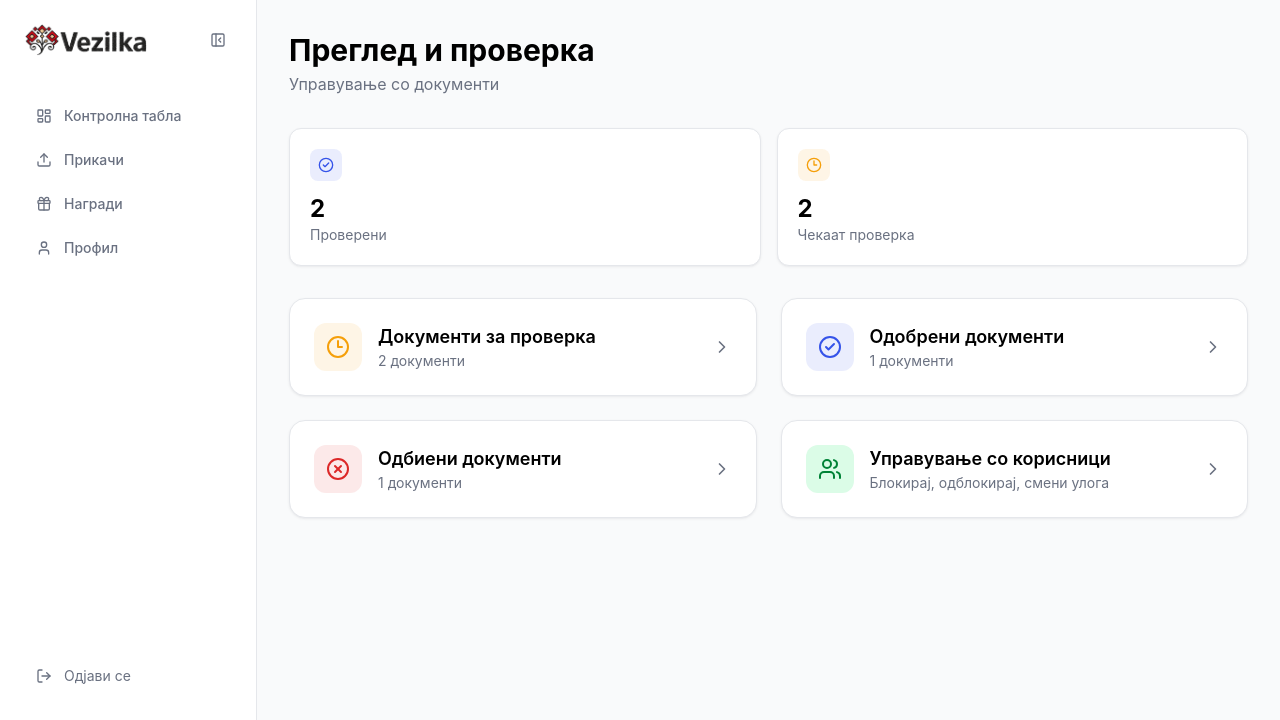
Test: AdminPage › User management › opens the user management section
Click the button "Управување со корисници Блокирај, одблокирај, смени улога" at (1014, 469), box 780,420 -> 1248,518
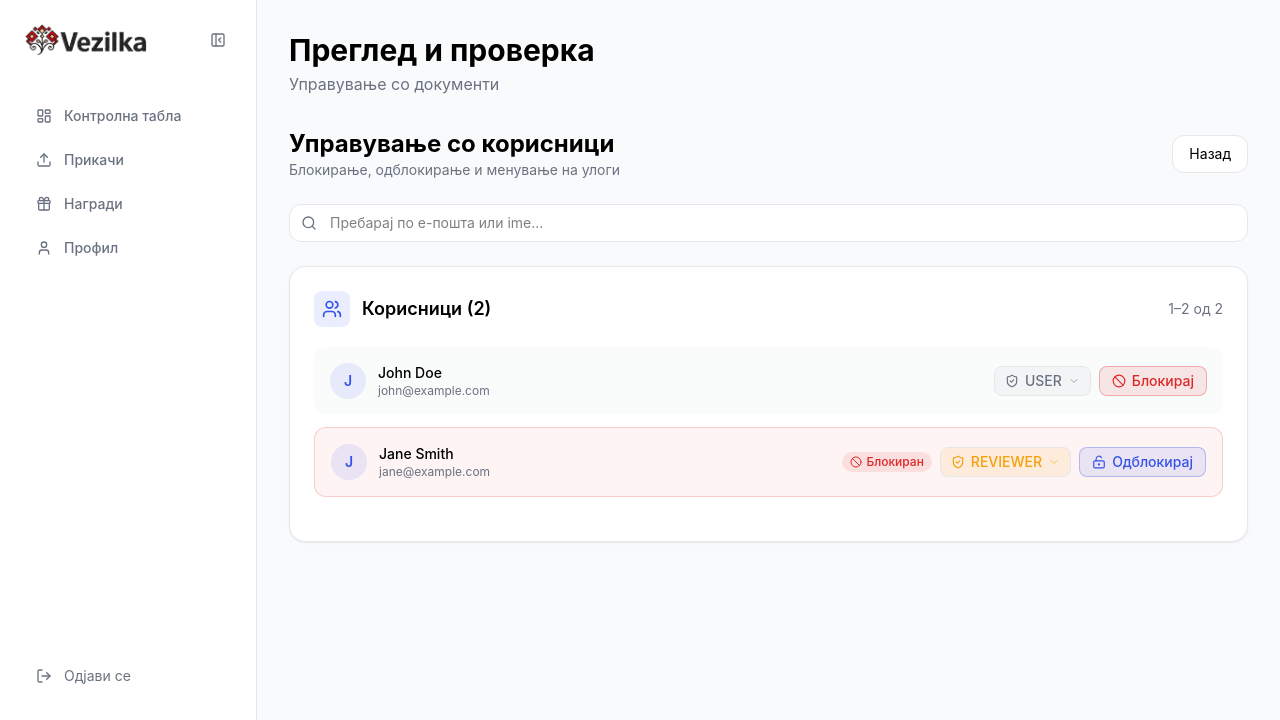
Expected: the heading "Управување со корисници" is shown, 289,128 -> 620,160
Now the field with placeholder "Пребарај по е-пошта или ime..." is shown, box 289,204 -> 1248,242
